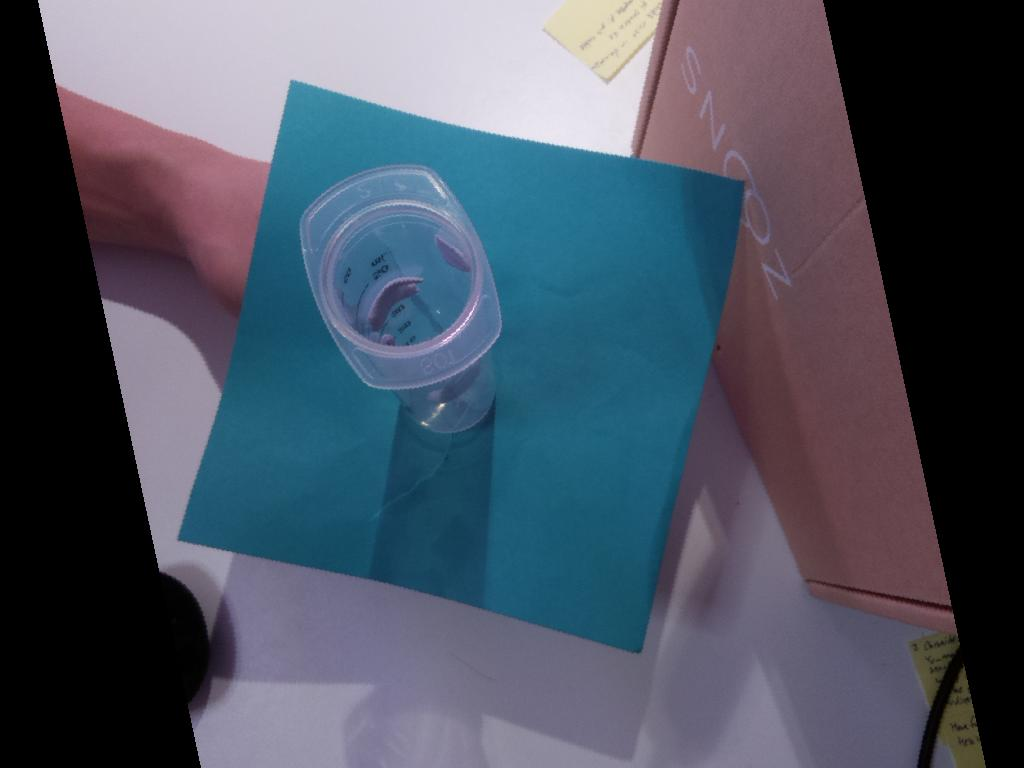dirty: (300, 164, 502, 389)
